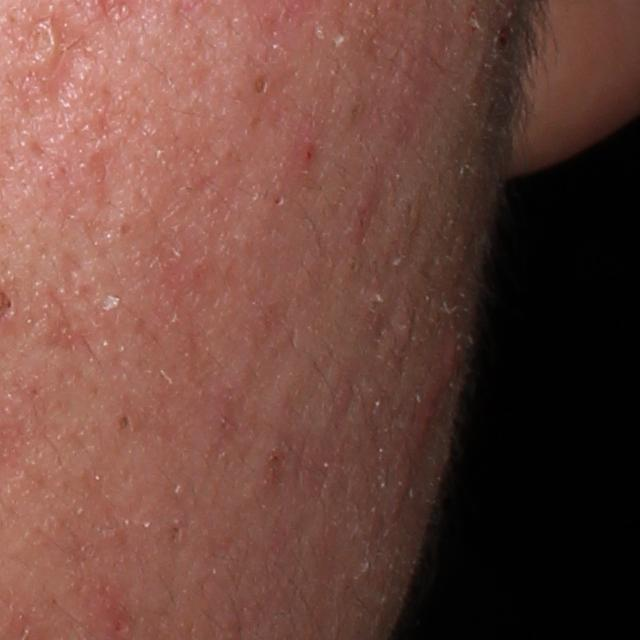atrophic_scar: (35, 16, 110, 123), (38, 295, 88, 356), (84, 140, 122, 213)
comedo: (115, 410, 138, 437), (250, 75, 272, 98)
papule: (298, 145, 317, 165)
